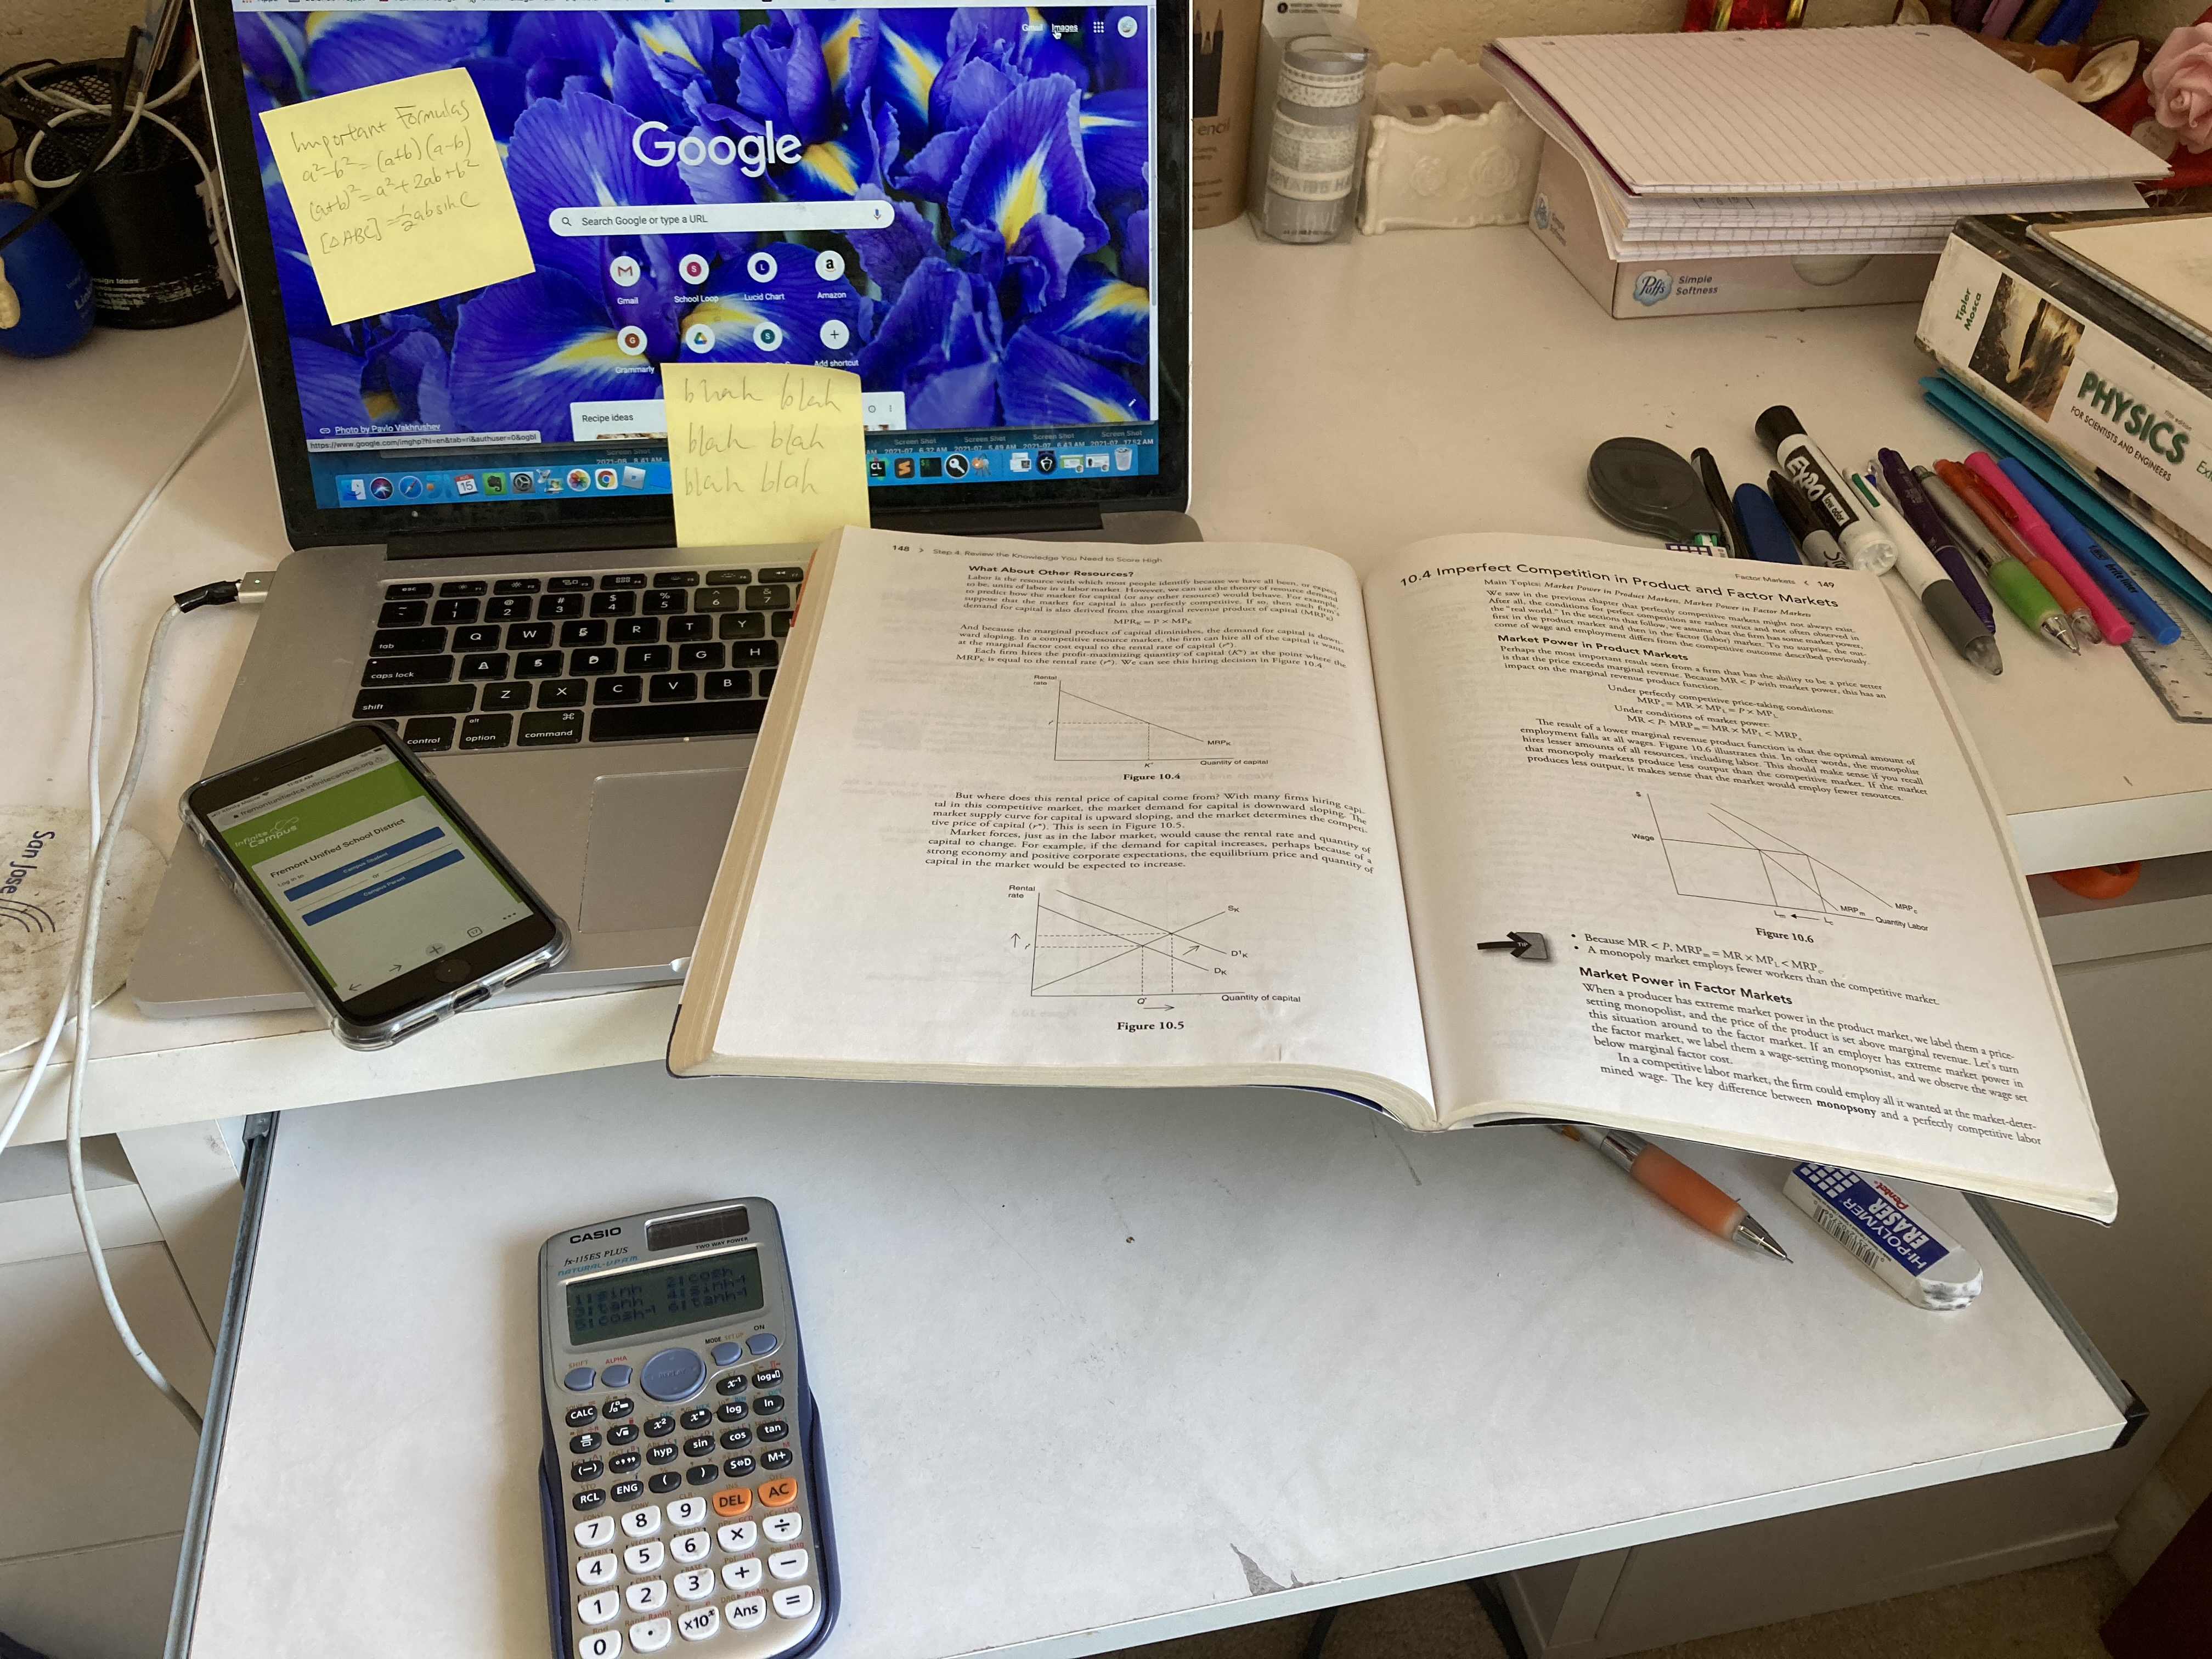Calculator: (529, 1202, 848, 1659)
Cell Phone: (178, 732, 559, 1047)
Note: (253, 68, 538, 319), (660, 361, 876, 538)
Open Book: (695, 528, 2123, 1188)
